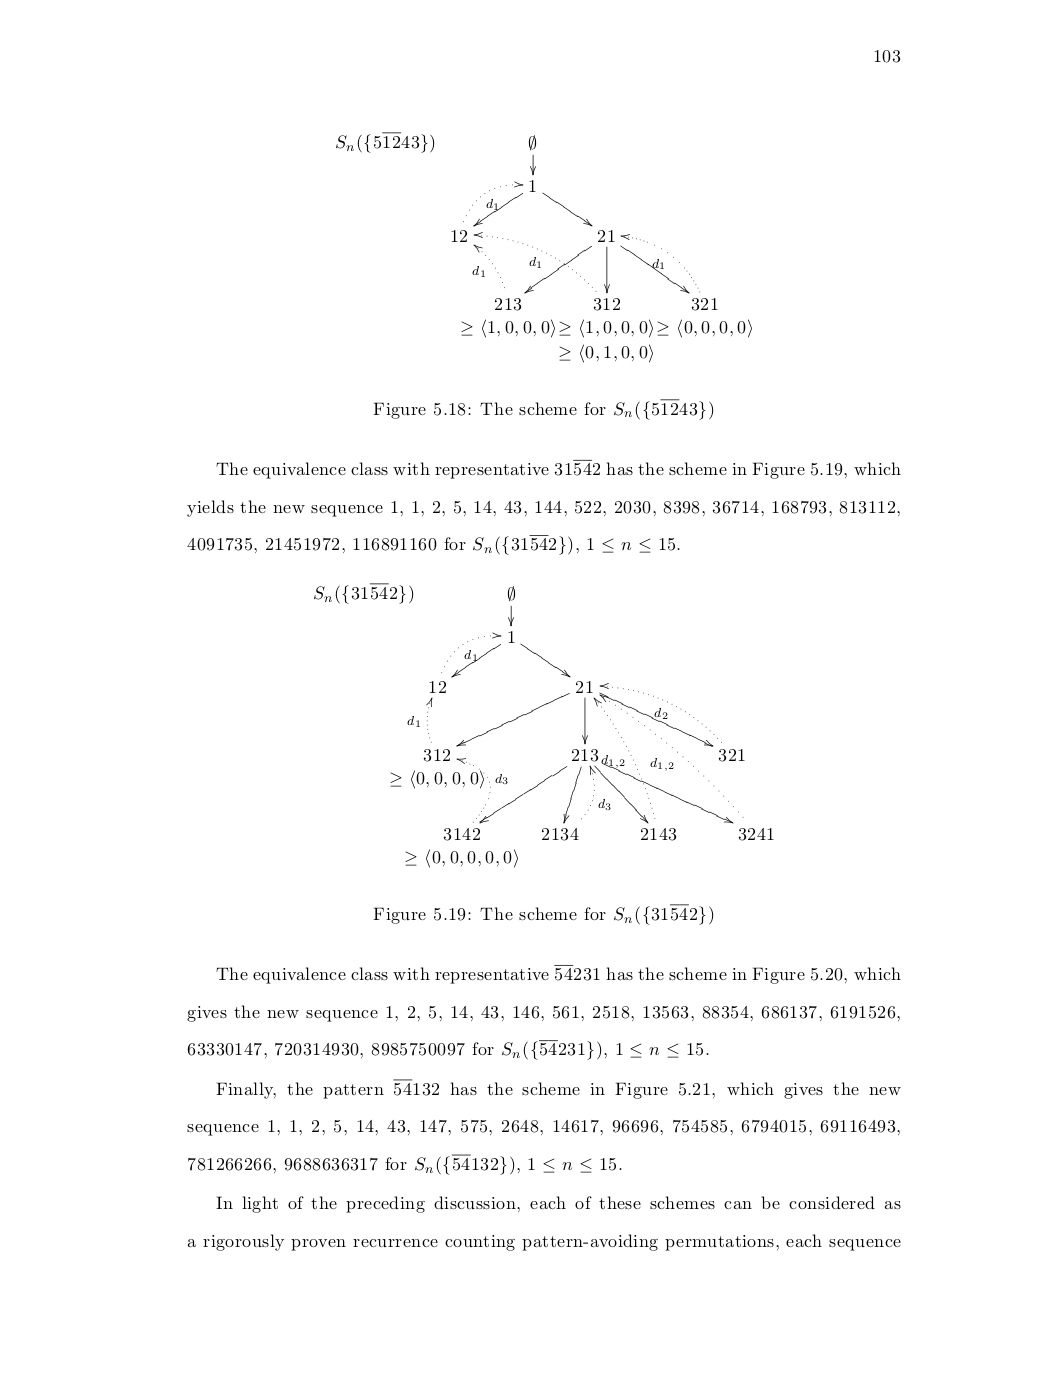figure: (314, 583, 773, 867), (335, 132, 751, 362)
